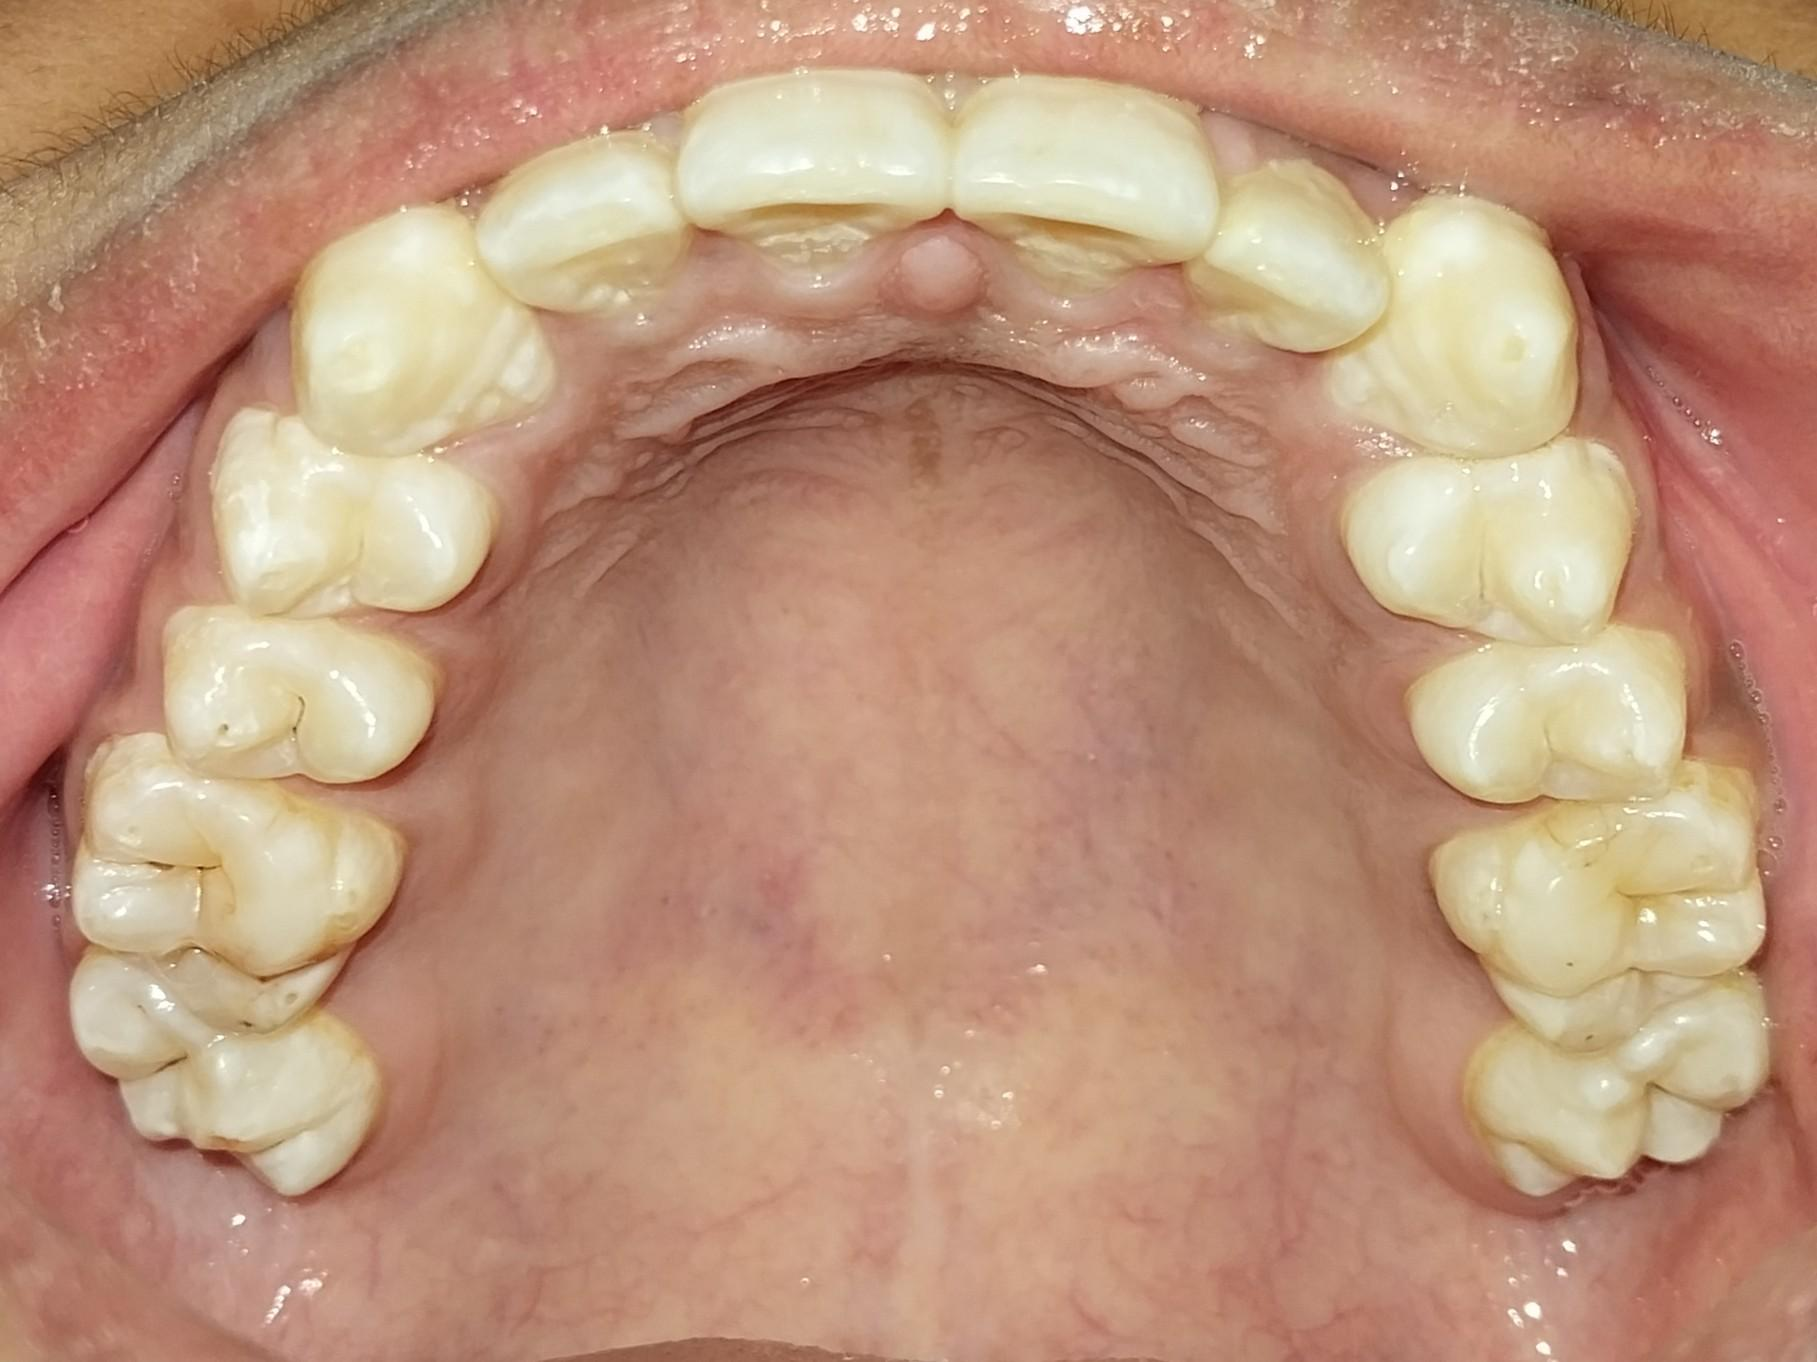D: (72, 738, 394, 1027), (66, 949, 375, 1202), (166, 604, 436, 785)
